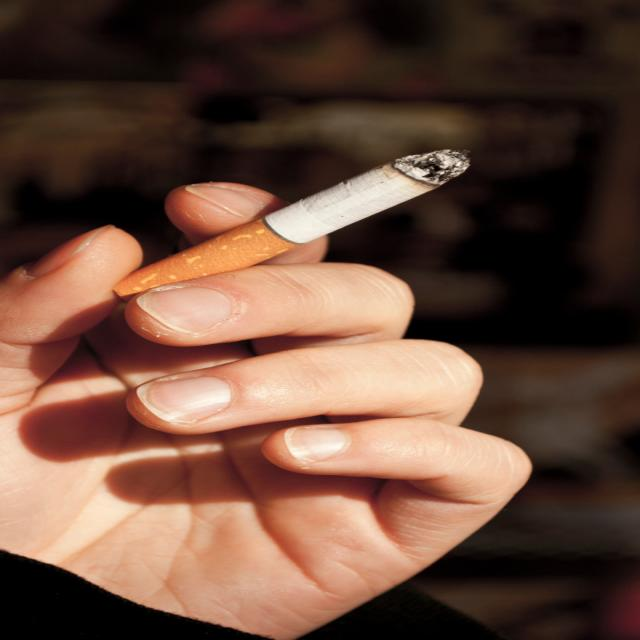Cigarette: (109, 146, 511, 299)
